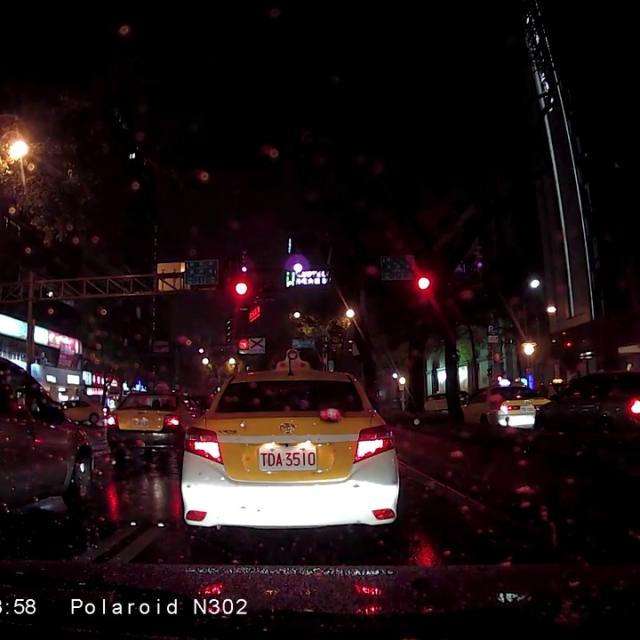Car: (179, 367, 402, 530), (0, 352, 96, 506), (531, 367, 639, 433), (103, 389, 205, 449), (460, 381, 551, 431), (49, 396, 103, 424), (420, 389, 463, 411)
